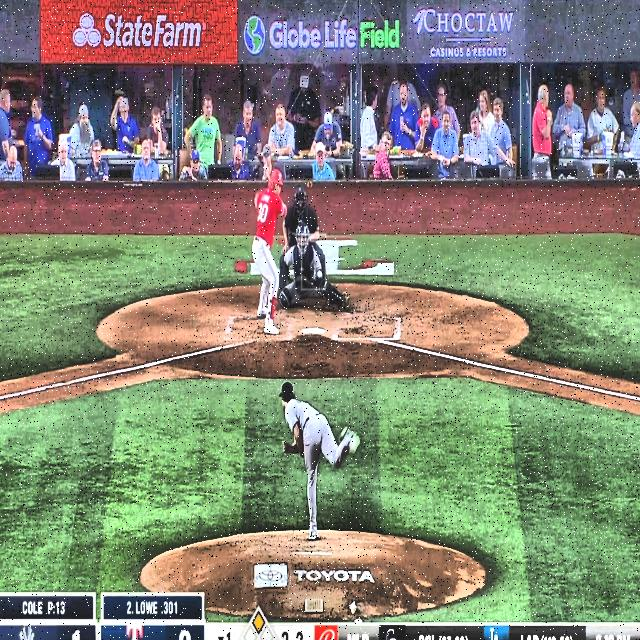baseball: (317, 270, 323, 279)
